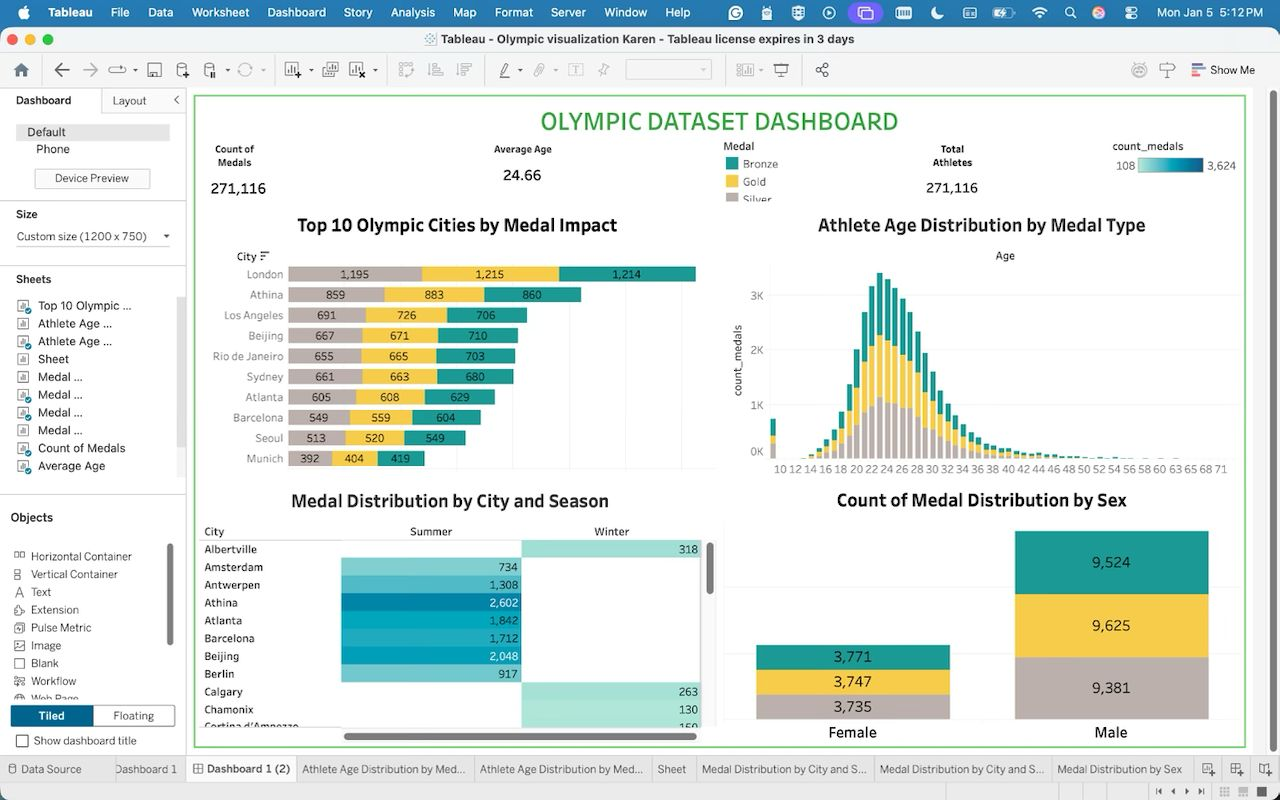

The page's visual inventory and layout, read from the dashboard file:
{"tool":"tableau","page":{"name":"Dashboard 1 (2)","canvas":[1200,750],"ordinal":1},"visuals":[{"type":"worksheet","title":"TITLE","mark":"Automatic","box":[10,10,1180,43]},{"type":"worksheet","title":"Count of Medals","mark":"Automatic","box":[10,53,288.9,78.6]},{"type":"worksheet","title":"Average Age","mark":"Automatic","box":[299,53,301,78.6]},{"type":"legend","title":"Top 10 Olympic Cities by Medal Impact","param":"[federated.1855o8211orcr2134aeol0gl3bys].[none:Medal:nk]","box":[600,53,217.6,78.6]},{"type":"worksheet","title":"Number of Athletes","mark":"Automatic","box":[817.6,53,220.6,78.6]},{"type":"legend","title":"Medal Distribution by City and Season1","param":"[federated.1855o8211orcr2134aeol0gl3bys].[usr:Calculation_1070261039828992:qk]","box":[1038.3,53,151.7,78.6]},{"type":"worksheet","title":"Top 10 Olympic Cities by Medal Impact","mark":"Automatic","rows":["City"],"cols":["Medal"],"box":[10,131.6,590,309.9]},{"type":"worksheet","title":"Athlete Age Distribution by Medal Type2","mark":"Automatic","rows":["Calculation_1070261039828992"],"cols":["Age"],"box":[600,131.6,590,309.8]},{"type":"worksheet","title":"Medal Distribution by Sex","mark":"Automatic","rows":["Calculation_1070261039828992"],"cols":["Sex"],"box":[600,441.4,590,298.6]},{"type":"worksheet","title":"Medal Distribution by City and Season1","mark":"Square","rows":["City"],"cols":["Season"],"box":[10,441.6,590,298.4]}]}

Visuals, with their boxes on the page's 1200x750 design canvas (x1, y1, x2, y2). These are canvas units, not pixel positions in the 1280x800 screenshot, which may show the page scaled, cropped or inside an application window:
"TITLE" worksheet: (10,10,1190,53)
"Count of Medals" worksheet: (10,53,299,132)
"Average Age" worksheet: (299,53,600,132)
"Top 10 Olympic Cities by Medal Impact" legend: (600,53,818,132)
"Number of Athletes" worksheet: (818,53,1038,132)
"Medal Distribution by City and Season1" legend: (1038,53,1190,132)
"Top 10 Olympic Cities by Medal Impact" worksheet: (10,132,600,442)
"Athlete Age Distribution by Medal Type2" worksheet: (600,132,1190,441)
"Medal Distribution by Sex" worksheet: (600,441,1190,740)
"Medal Distribution by City and Season1" worksheet (Square marks): (10,442,600,740)
